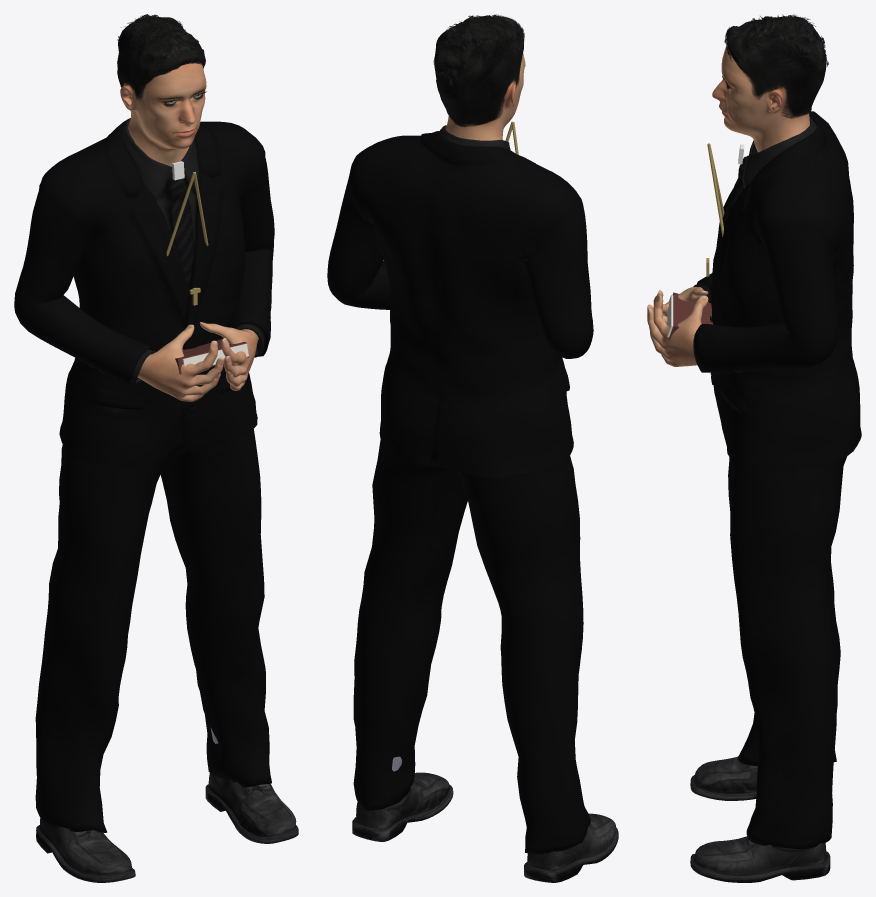
The model's file is officiant_realistic.glb.
3 views of the same model, side by side, from view 1: azimuth 30°, elevation 25°; view 2: azimuth 150°, elevation 25°; view 3: azimuth 270°, elevation 25° (orthographic).
Parts seen in each view (by area): view 1: officiant.male_elegantsuit01, officiant.body, officiant.shoes04, officiant.short01; view 2: officiant.male_elegantsuit01, officiant.short01, officiant.shoes04, officiant.body; view 3: officiant.male_elegantsuit01, officiant.body, officiant.shoes04, officiant.short01, book.cover.
Boxes of the visible parts, x1,y1,x2,y2 form: officiant.male_elegantsuit01: (14, 118, 274, 832); officiant.body: (120, 62, 258, 401); officiant.shoes04: (36, 727, 298, 882); officiant.short01: (117, 14, 205, 110); officiant.male_elegantsuit01: (327, 125, 593, 854); officiant.short01: (433, 14, 524, 127); officiant.shoes04: (352, 756, 618, 882); officiant.body: (445, 53, 524, 140); officiant.male_elegantsuit01: (693, 111, 861, 849); officiant.body: (647, 45, 809, 366); officiant.shoes04: (690, 756, 830, 882); officiant.short01: (724, 14, 828, 118); book.cover: (668, 292, 713, 339).
Size of the model in its own units: 0.593 by 1.81 by 0.4327.
Materials: 12 (8 with a texture image).
